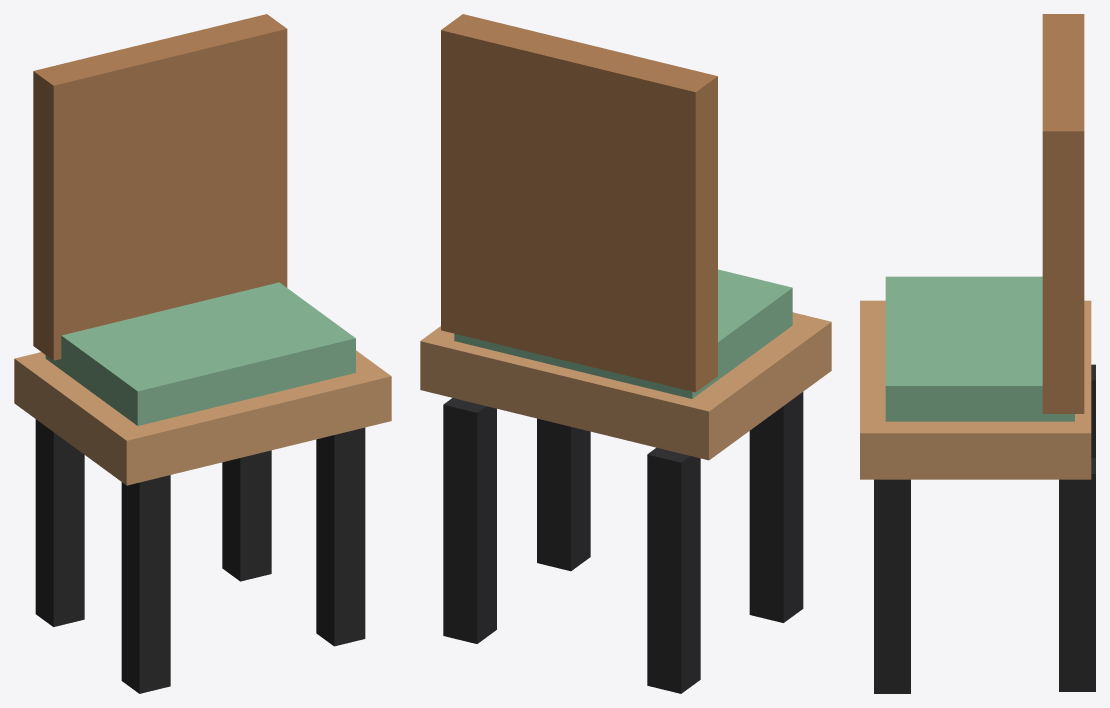
Rendered from sample-chair.glb.
The picture shows the model from 3 angles, left to right: view 1: azimuth 30°, elevation 25°; view 2: azimuth 150°, elevation 25°; view 3: azimuth 270°, elevation 25°; orthographic projection. The views are drawn at different scales.
Parts seen in each view (by area): view 1: Sample_Backrest, Sample_Cushion, Sample_Seat, Sample_Front_Leg_L, Sample_Front_Leg_R, Sample_Rear_Leg_L, Sample_Rear_Leg_R; view 2: Sample_Backrest, Sample_Seat, Sample_Rear_Leg_L, Sample_Rear_Leg_R, Sample_Front_Leg_L, Sample_Cushion, Sample_Front_Leg_R; view 3: Sample_Cushion, Sample_Seat, Sample_Backrest, Sample_Rear_Leg_R, Sample_Front_Leg_R, Sample_Rear_Leg_L.
Part boxes in pixels (x1,y1,x2,y2): Sample_Backrest: [33, 14, 287, 360]; Sample_Cushion: [45, 282, 355, 425]; Sample_Seat: [14, 350, 391, 485]; Sample_Front_Leg_L: [121, 475, 170, 693]; Sample_Front_Leg_R: [316, 427, 365, 646]; Sample_Rear_Leg_L: [35, 419, 84, 626]; Sample_Rear_Leg_R: [222, 450, 271, 581]; Sample_Backrest: [441, 14, 717, 392]; Sample_Seat: [420, 312, 831, 460]; Sample_Rear_Leg_L: [647, 447, 700, 693]; Sample_Rear_Leg_R: [443, 398, 496, 643]; Sample_Front_Leg_L: [749, 392, 803, 622]; Sample_Cushion: [454, 269, 792, 398]; Sample_Front_Leg_R: [537, 418, 590, 571]; Sample_Cushion: [885, 276, 1074, 421]; Sample_Seat: [860, 300, 1091, 479]; Sample_Backrest: [1042, 14, 1084, 413]; Sample_Rear_Leg_R: [1059, 458, 1095, 691]; Sample_Front_Leg_R: [874, 479, 910, 693]; Sample_Rear_Leg_L: [1091, 364, 1095, 458].
Size of the model in its own units: 1.36 by 2.7 by 1.02.
